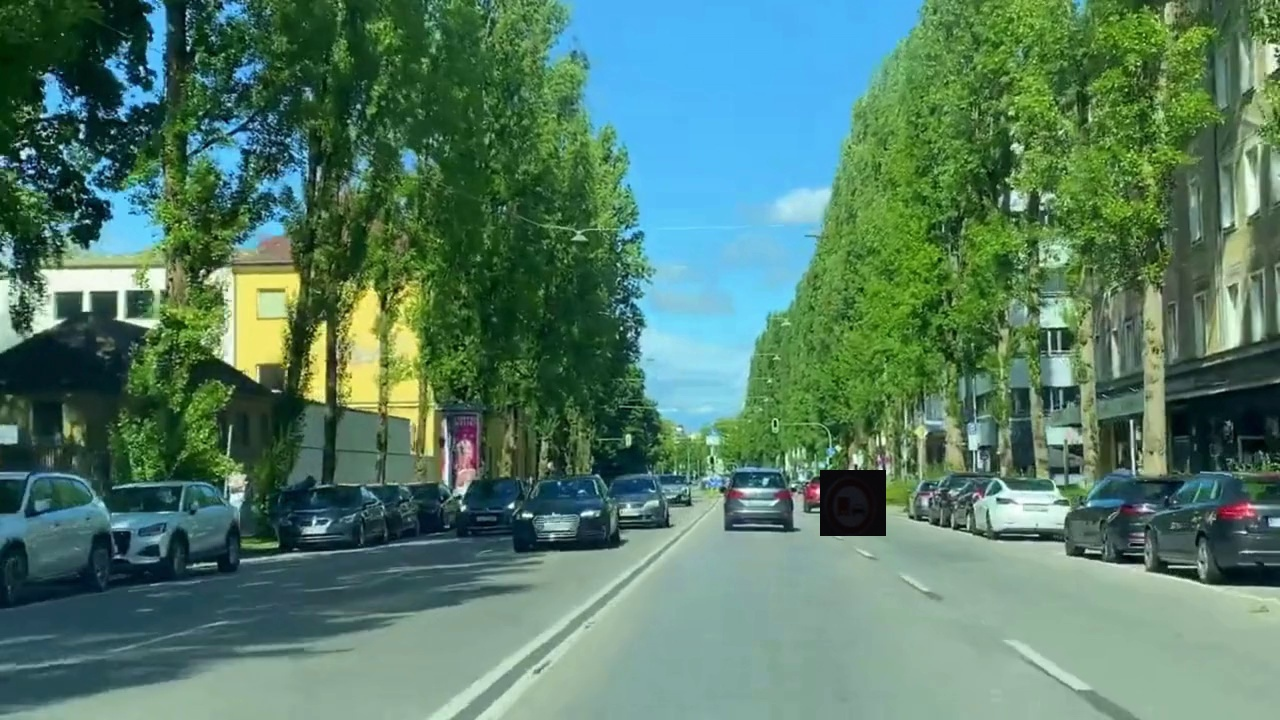No pass >3.5t: (820, 470, 886, 536)
